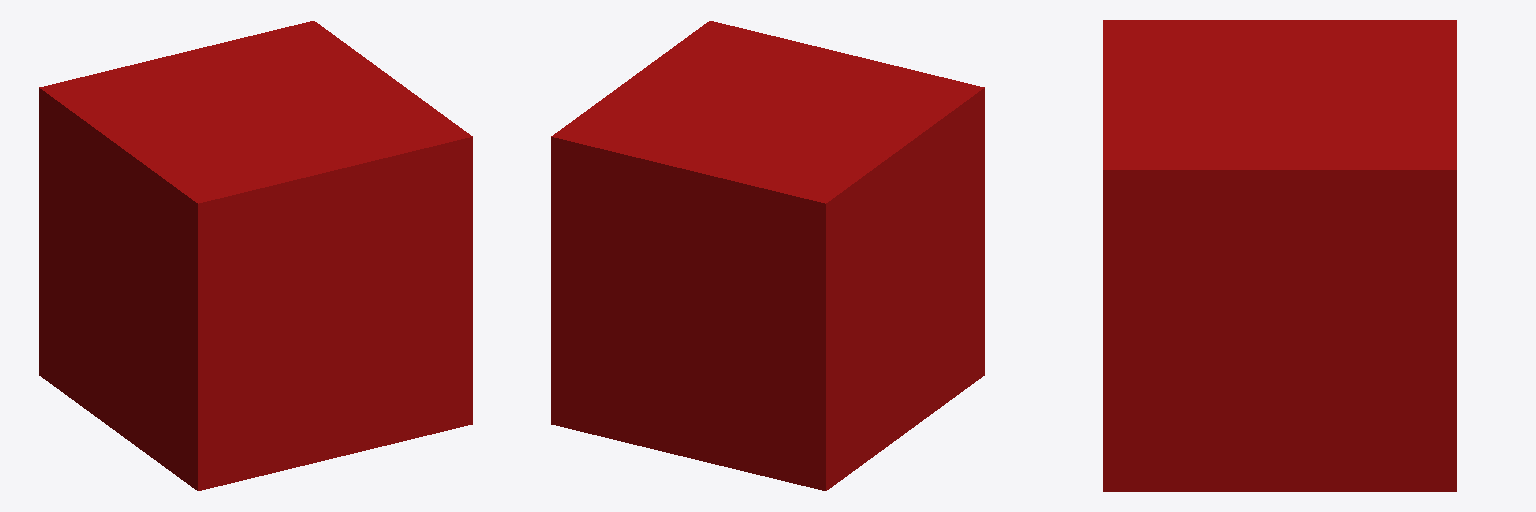
The robot description file, URDF, robot "block_2":
<?xml version="1.0"?>
<robot name="block_2">
  <link name="block_2_base_link">
    <contact>
      <lateral_friction value="1.0"/>
      <spinning_friction value=".001"/>
    </contact>
    <inertial>
      <origin rpy="0 0 0" xyz="0 0 0"/>
      <mass value="1"/>
      <inertia ixx="1" ixy="0" ixz="0" iyy="1" iyz="0" izz="1"/>
    </inertial>
    <visual>
      <origin rpy="0 0 0" xyz="0.0 0.0 0.0"/>
      <geometry>
        <box size="0.3 0.3 0.3"/>
      </geometry>
      <material name="blockmat">
        <color rgba="0.7 0.1 0.1 0.5"/>
      </material>
    </visual>
  </link>
</robot>

--- What the picture shows (computed from the rendered views, not written in the file) ---
The picture shows the robot from 3 angles, left to right: view 1: azimuth 30°, elevation 25°; view 2: azimuth 150°, elevation 25°; view 3: azimuth 270°, elevation 25°; orthographic projection.
Model block_2 with 1 links and 0 joints (none), rooted at block_2_base_link, posed all joints at 0.
Visible links, largest first — view 1: block_2_base_link; view 2: block_2_base_link; view 3: block_2_base_link.
Link boxes in pixels (x1,y1,x2,y2): block_2_base_link: [39, 21, 472, 490]; block_2_base_link: [551, 21, 984, 490]; block_2_base_link: [1103, 20, 1456, 491].
Size in the robot's own frame: 0.3 by 0.3 by 0.3 metres.
Geometry: primitives only (box / cylinder / sphere), no mesh files.